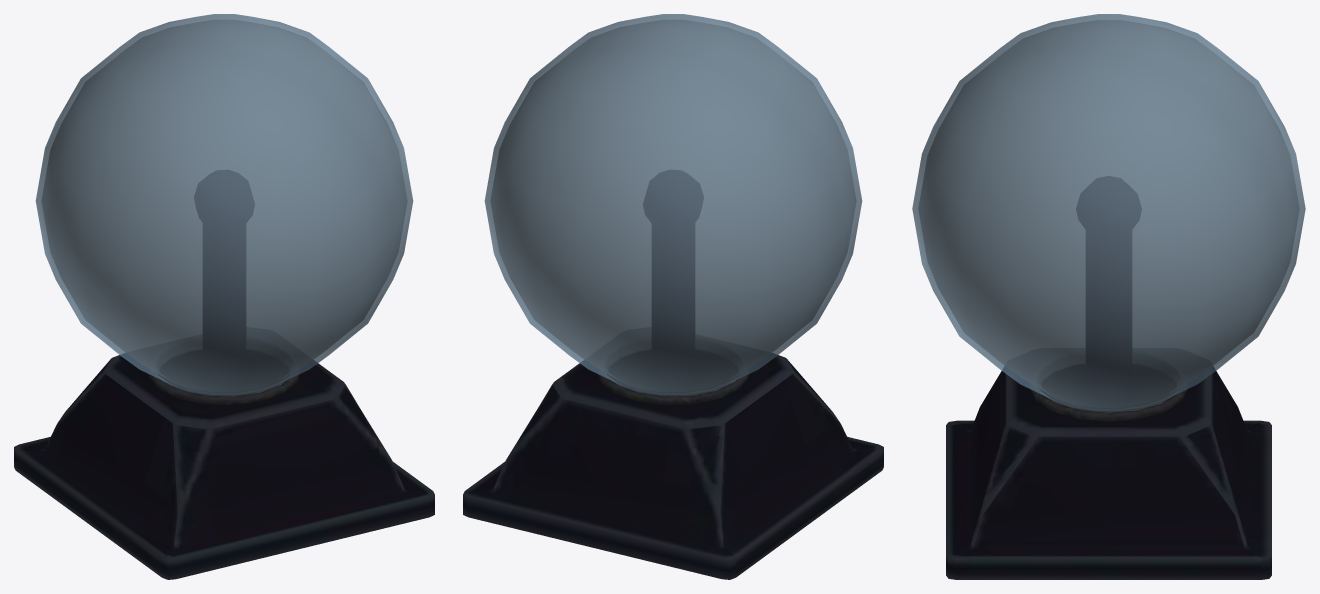
3 renders of one model, left to right at view 1: azimuth 30°, elevation 25°; view 2: azimuth 150°, elevation 25°; view 3: azimuth 270°, elevation 25°, orthographic. The views are drawn at different scales.
Bounding box in the file's own units: 4.88 × 6.68 × 4.96.
3 materials, 2 textured.
